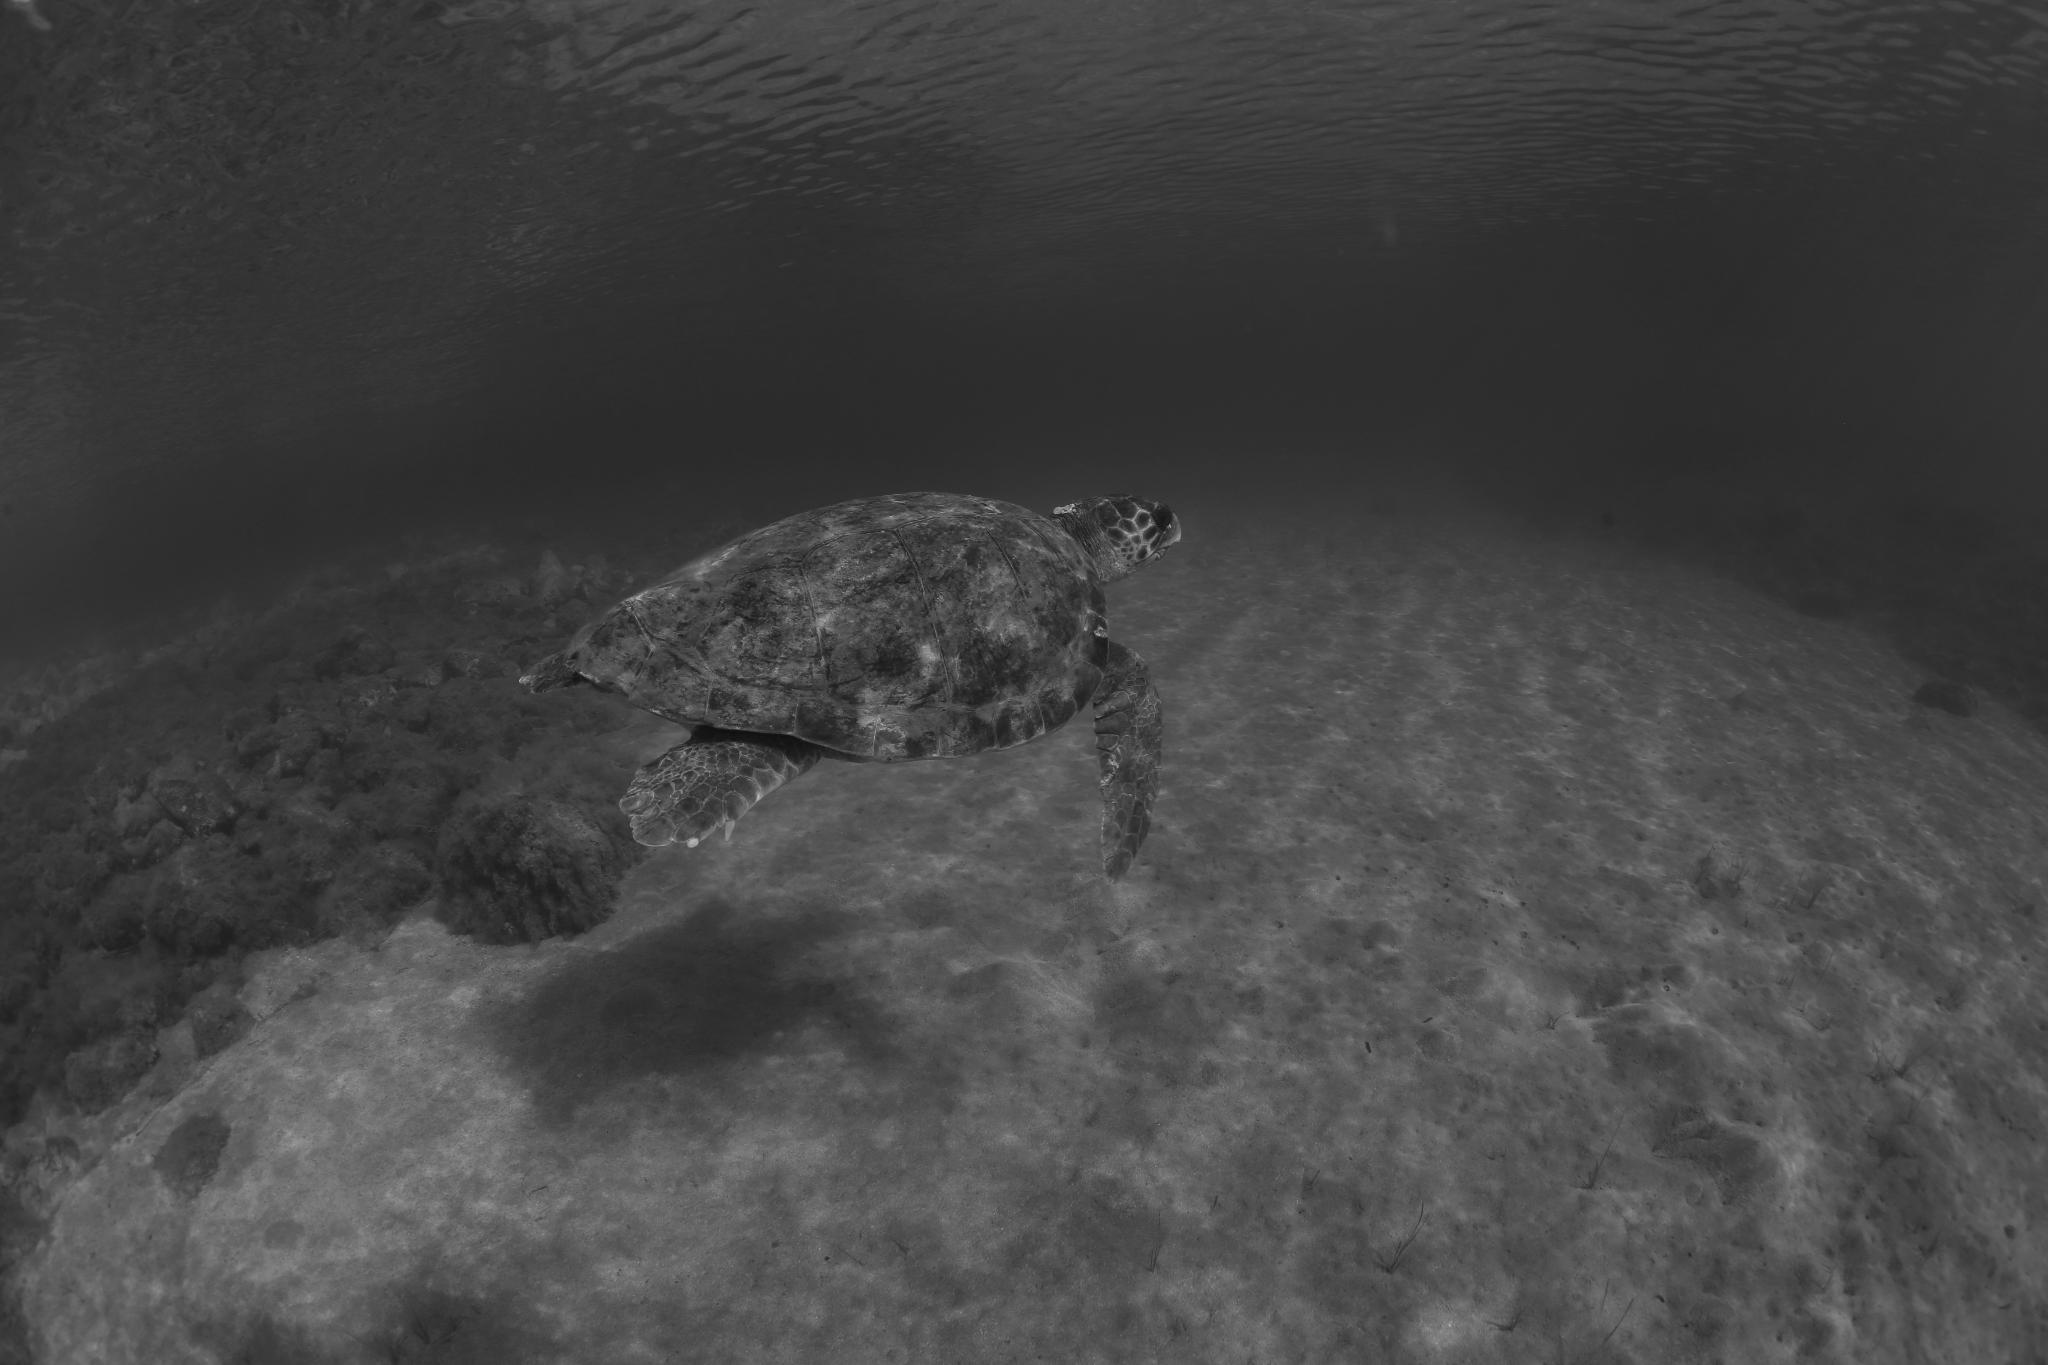Head: (1050, 494, 1182, 584)
